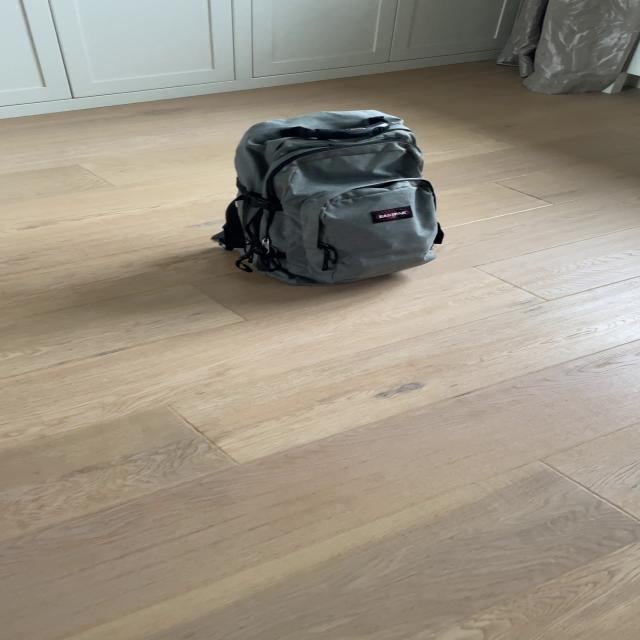backpack: (208, 100, 450, 292)
